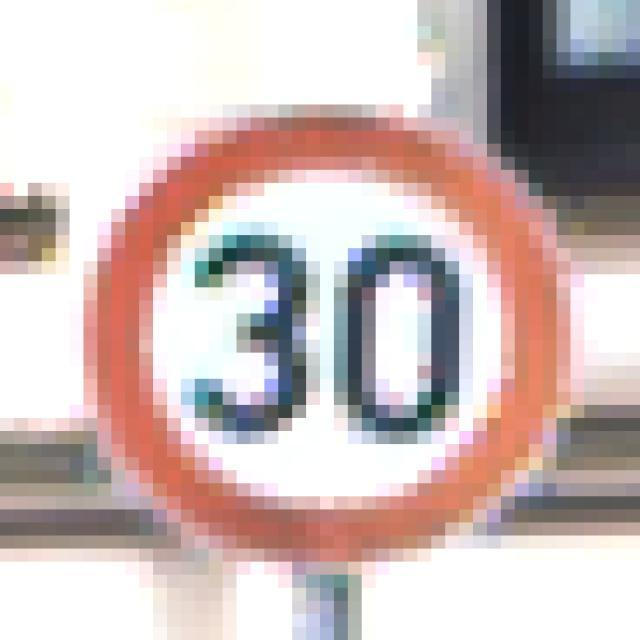Speed Limit -30-: (62, 58, 550, 556)
